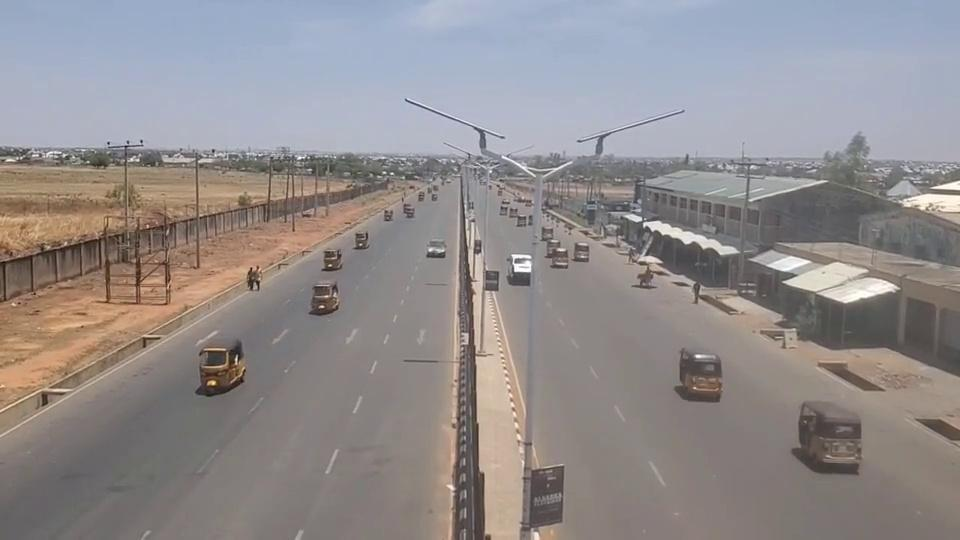bus: (507, 254, 532, 285)
car: (426, 239, 447, 257)
keke: (797, 399, 862, 471), (197, 337, 246, 394), (678, 347, 722, 401), (310, 281, 340, 314), (323, 248, 344, 270), (354, 231, 370, 249), (384, 208, 393, 221)
